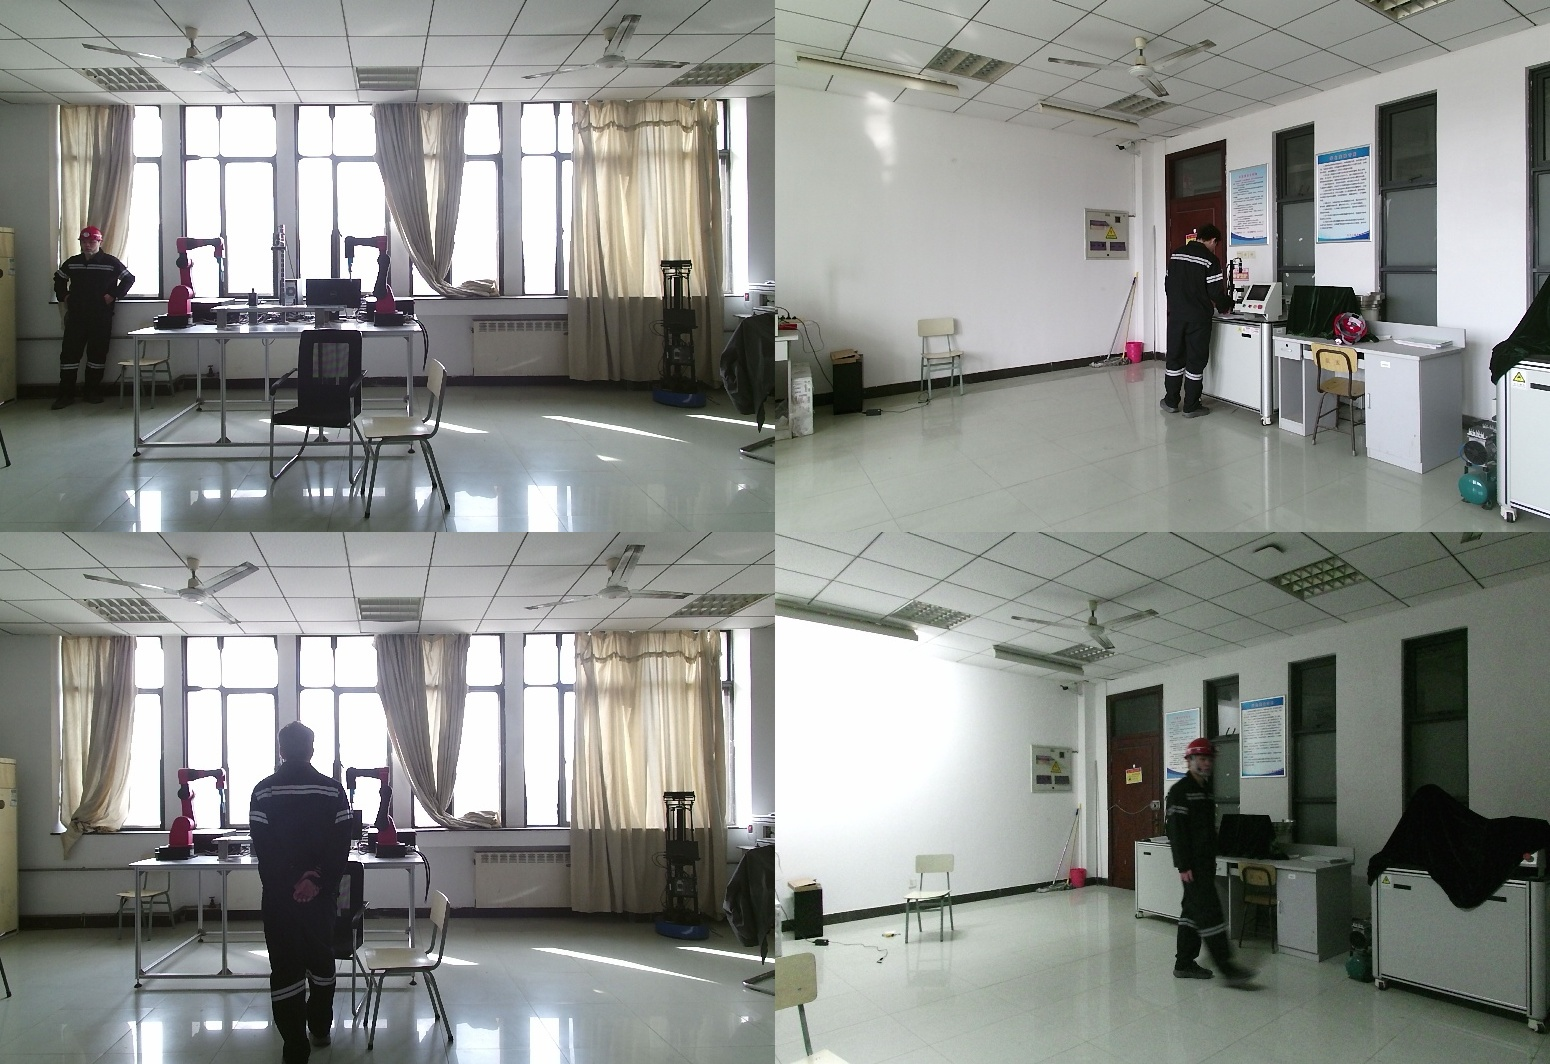person: (246, 724, 355, 1064), (1158, 739, 1226, 981), (1155, 223, 1237, 426), (54, 231, 135, 404)
